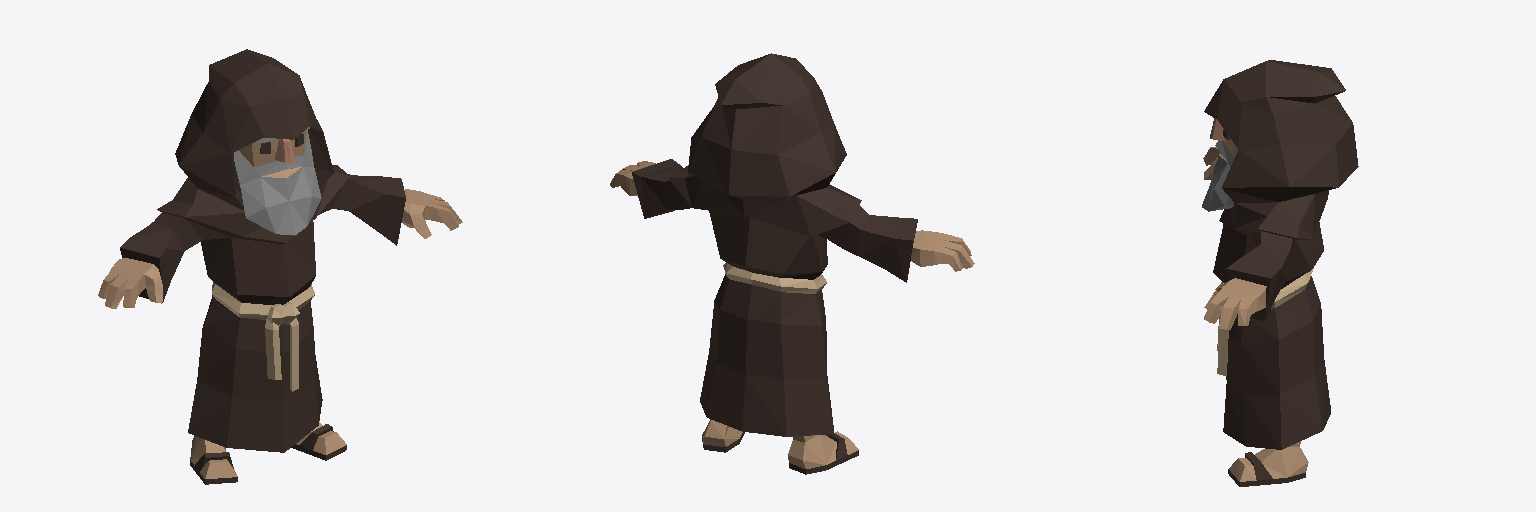
3 renders of one model, left to right at view 1: azimuth 30°, elevation 25°; view 2: azimuth 150°, elevation 25°; view 3: azimuth 270°, elevation 25°, orthographic.
Parts seen in each view (by area): view 1: obj1; view 2: obj1; view 3: obj1.
Boxes of the visible parts, x1=… form: obj1: x1=98, y1=49, x2=462, y2=484; obj1: x1=610, y1=53, x2=974, y2=474; obj1: x1=1202, y1=60, x2=1358, y2=486.
Bounding box in the file's own units: 1.45 × 1.53 × 0.5551.
Materials: 1 (1 with a texture image).